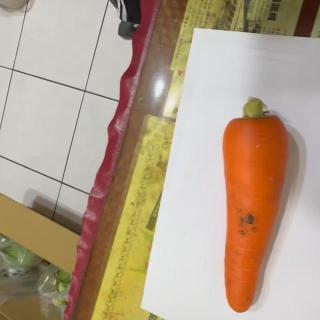carrot: (217, 95, 291, 313)
